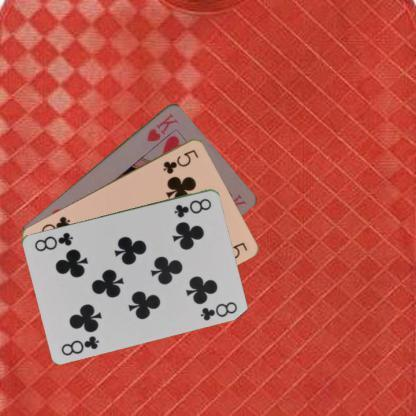5c: (161, 146, 200, 176)
8c: (58, 332, 100, 356), (172, 196, 212, 218)
Kh: (144, 110, 180, 144)
